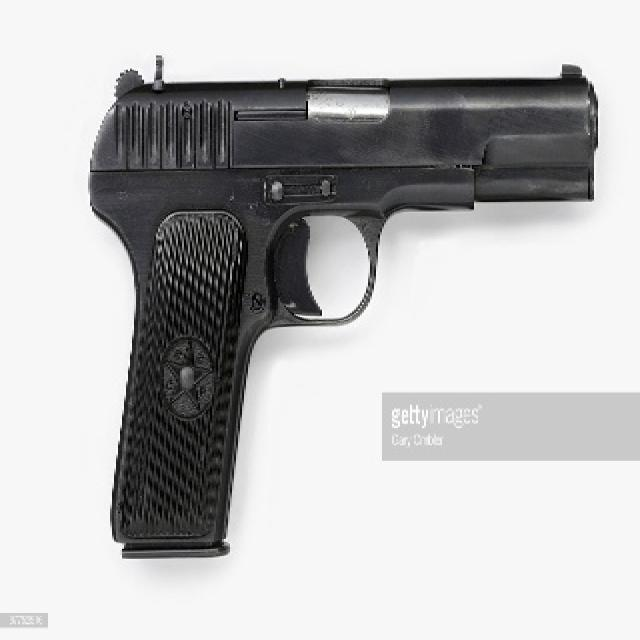handgun: (83, 51, 597, 558)
